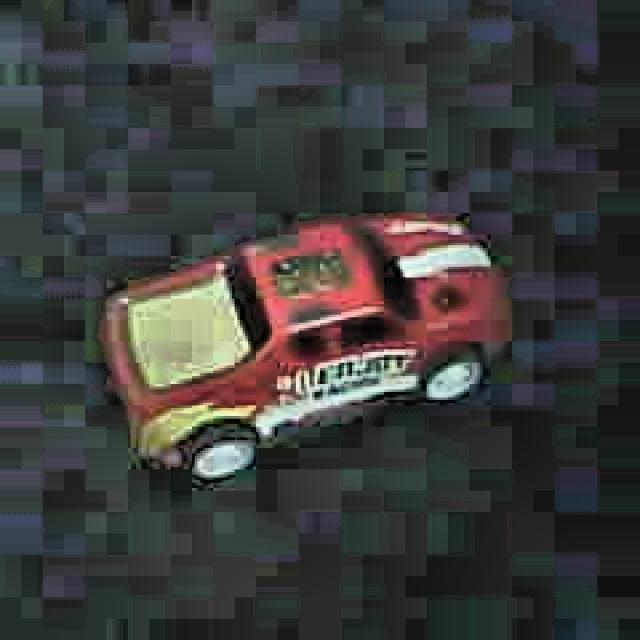car: (96, 207, 510, 489)
